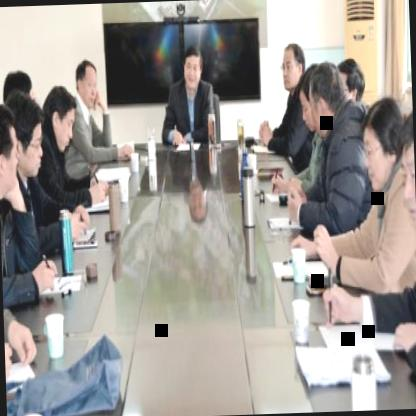head: (356, 93, 410, 206), (308, 61, 346, 142), (14, 90, 46, 180), (45, 86, 80, 152), (0, 100, 23, 191), (274, 36, 308, 96), (72, 52, 100, 113), (296, 63, 318, 138), (3, 69, 34, 118), (338, 60, 365, 105), (182, 43, 206, 89)
